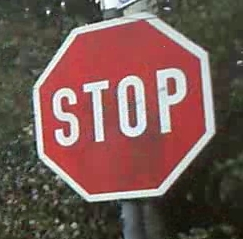stop: (30, 16, 212, 201)
